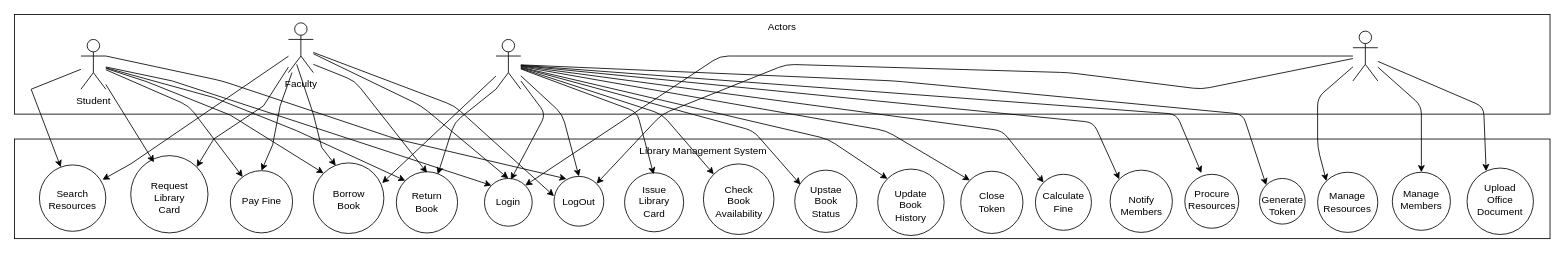
Image size: 1565x253. Some labels were removed from this diagram. Here are the shapes that lost their labels. From the top down, the box of each, then its label:
(495, 39, 521, 89): Librarian
(1352, 30, 1378, 81): Admin
